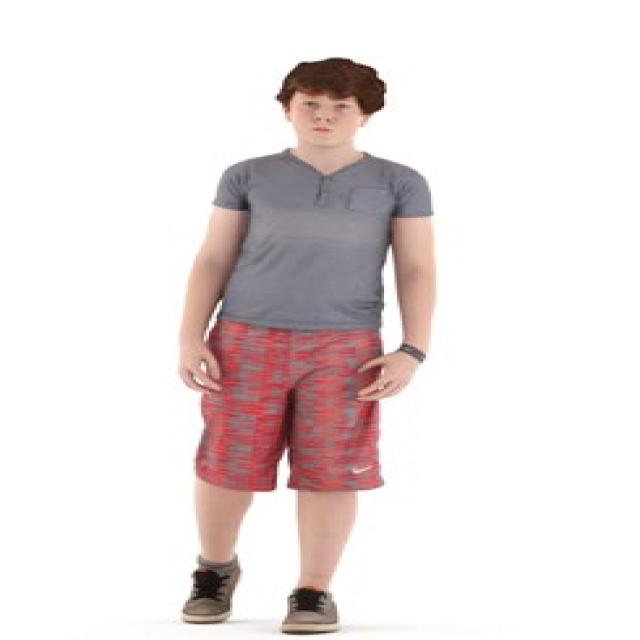standing: (169, 53, 440, 640)
